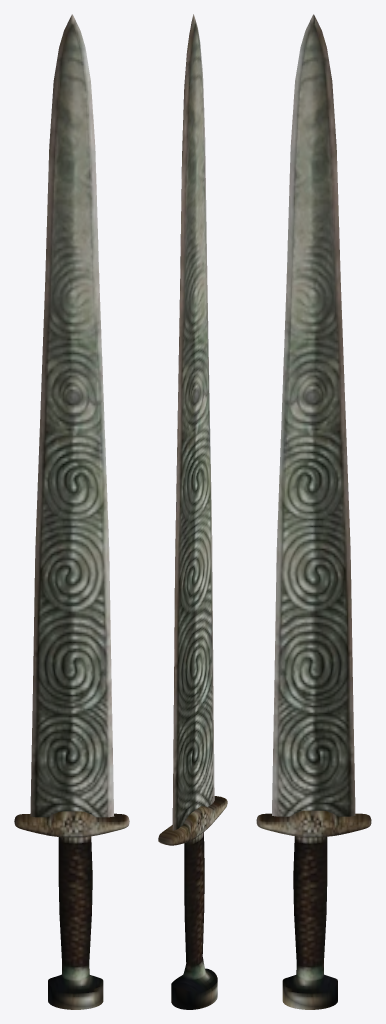
The model's file is great_imperial_sword.glb.
3 views of the same model, side by side, from view 1: azimuth 90°, elevation 25°; view 2: azimuth 150°, elevation 25°; view 3: azimuth 270°, elevation 25° (orthographic).
Visible parts, largest first — view 1: sword_4.004; view 2: sword_4.004; view 3: sword_4.004.
Part boxes in pixels (x1,y1,x2,y2): sword_4.004: (14,14,129,1009); sword_4.004: (158,14,227,1009); sword_4.004: (256,14,371,1009).
Size of the model in its own units: 0.0731 by 1.84 by 0.1949.
1 material, 1 textured.
